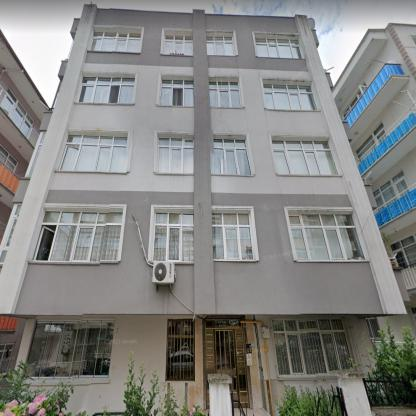door: (203, 318, 248, 409)
window: (32, 207, 122, 263), (28, 319, 114, 376), (272, 319, 354, 377), (288, 211, 366, 259), (57, 133, 128, 173), (271, 137, 339, 175), (211, 208, 256, 260), (152, 208, 194, 262), (262, 78, 318, 112), (166, 319, 194, 381), (77, 74, 135, 102), (1, 88, 34, 137), (157, 134, 193, 174), (211, 140, 252, 174), (0, 204, 21, 268), (89, 30, 142, 54), (374, 170, 408, 207), (254, 34, 304, 58), (357, 122, 385, 159), (160, 77, 194, 107), (25, 132, 46, 177), (210, 78, 241, 107), (391, 232, 415, 269), (163, 32, 192, 55), (206, 35, 236, 56), (0, 145, 18, 173), (1, 344, 13, 374)
